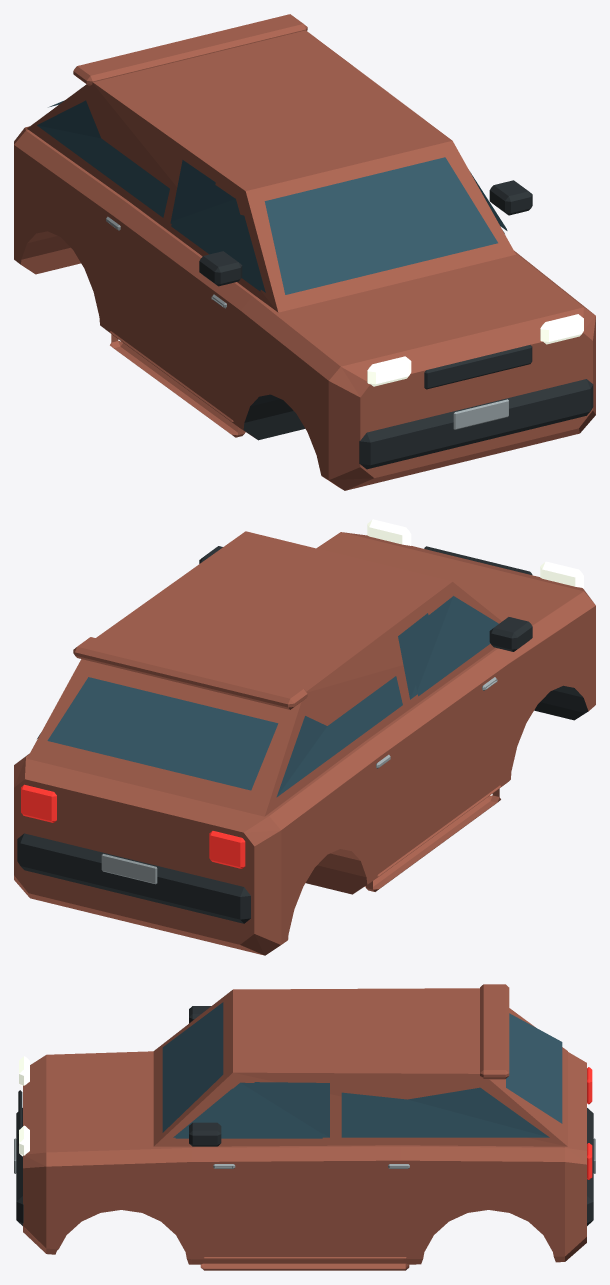
The model's file is hatchback.glb.
3 views of the same model, one above another, from view 1: azimuth 30°, elevation 25°; view 2: azimuth 150°, elevation 25°; view 3: azimuth 270°, elevation 25° (orthographic). The views are drawn at different scales.
Parts seen in each view (by area): view 1: BODY_Hatchback, DoorLeftSkin, DoorRightSkin; view 2: BODY_Hatchback, DoorLeftSkin; view 3: BODY_Hatchback, DoorRightSkin.
Boxes of the visible parts, bbox=[...] form: BODY_Hatchback: bbox=[14, 14, 595, 490]; DoorLeftSkin: bbox=[160, 156, 269, 428]; DoorRightSkin: bbox=[470, 172, 532, 252]; BODY_Hatchback: bbox=[14, 519, 595, 955]; DoorLeftSkin: bbox=[400, 584, 532, 838]; BODY_Hatchback: bbox=[14, 984, 595, 1270]; DoorRightSkin: bbox=[175, 1076, 322, 1258].
Bounding box in the file's own units: 2.06 × 1.44 × 3.96.
